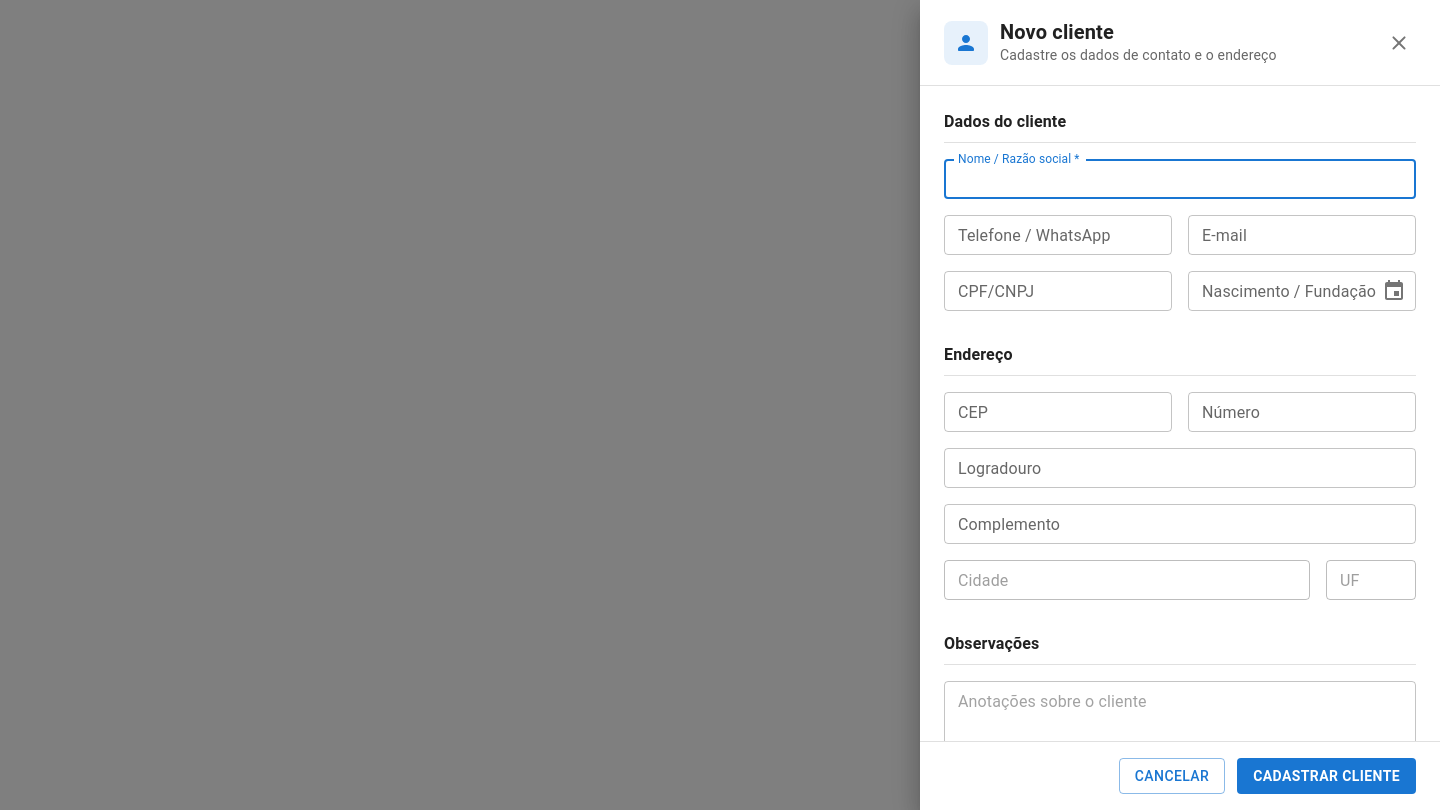
Test: ClientDialog (painel lateral) › e-mail e CPF inválidos bloqueiam o envio
This screenshot has width=1440, height=810.
Type "Ana" into the field labelled "Nome / Razão social *" at x=1180, y=179, box [944,159,1416,199]
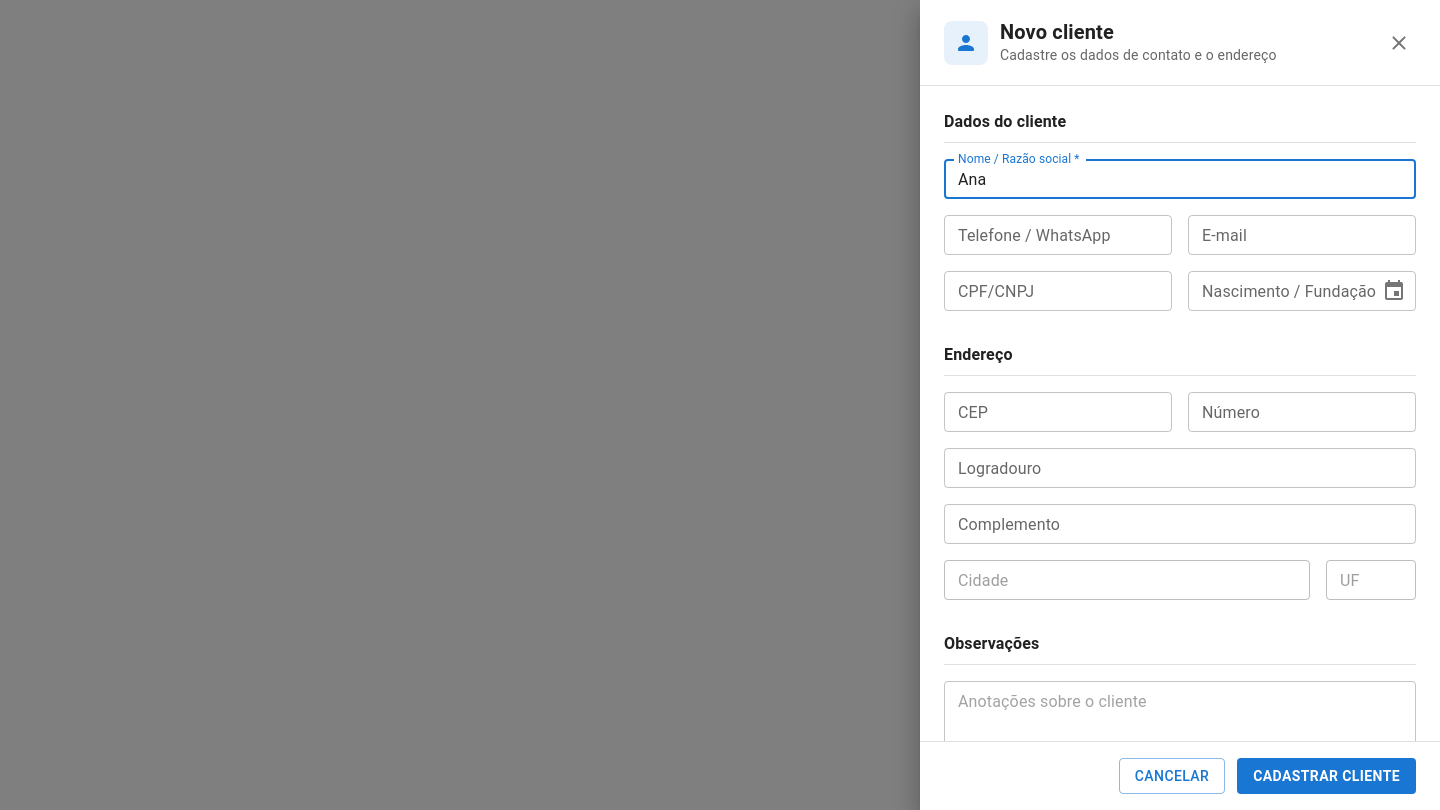
Type "ana@" into the field labelled "E-mail" at x=1302, y=235, box [1188,215,1416,255]
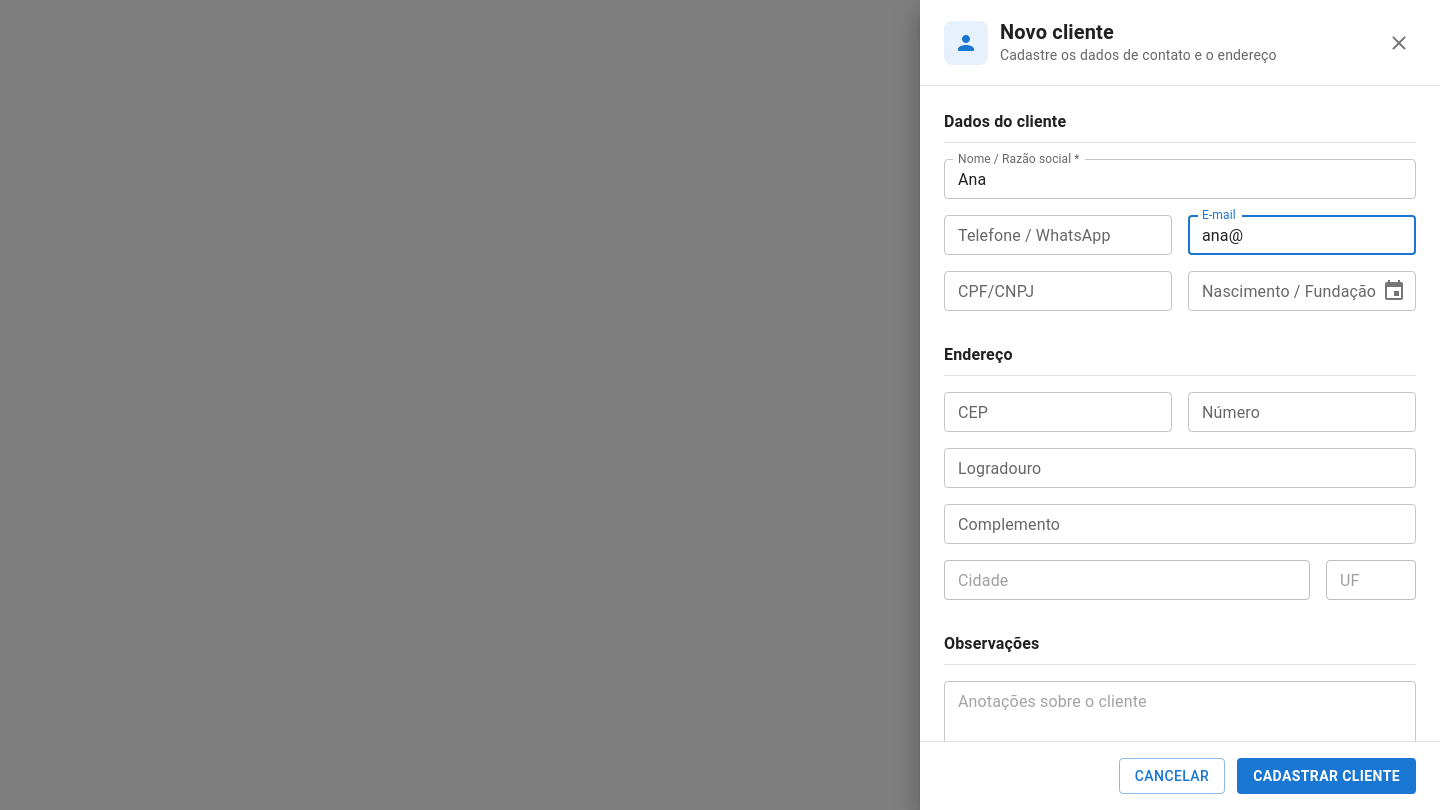
Type "111.111.111-11" into the field labelled "CPF/CNPJ" at x=1058, y=291, box [944,271,1172,311]
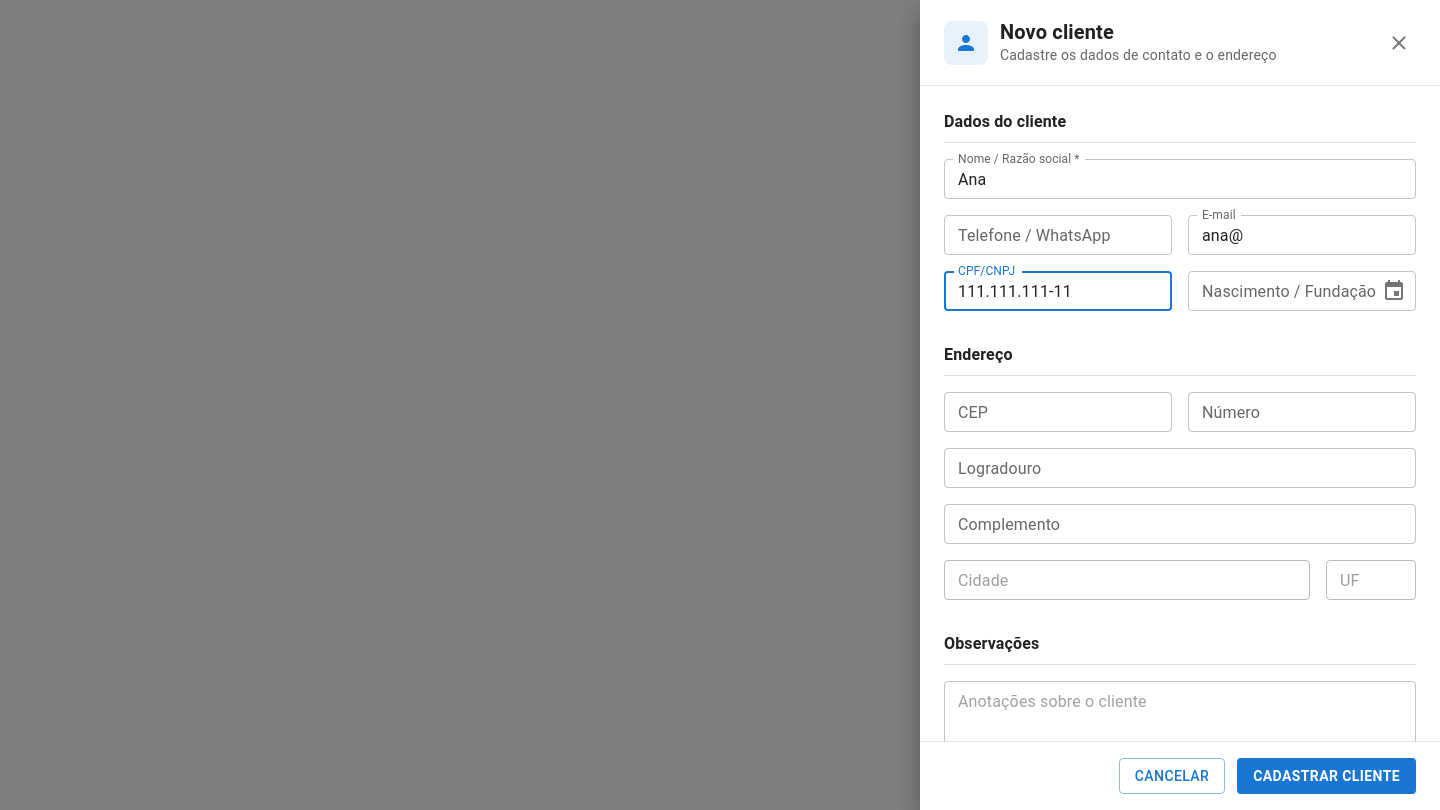
Click the button "Cadastrar cliente" at x=1327, y=776, box [1237,758,1416,794]
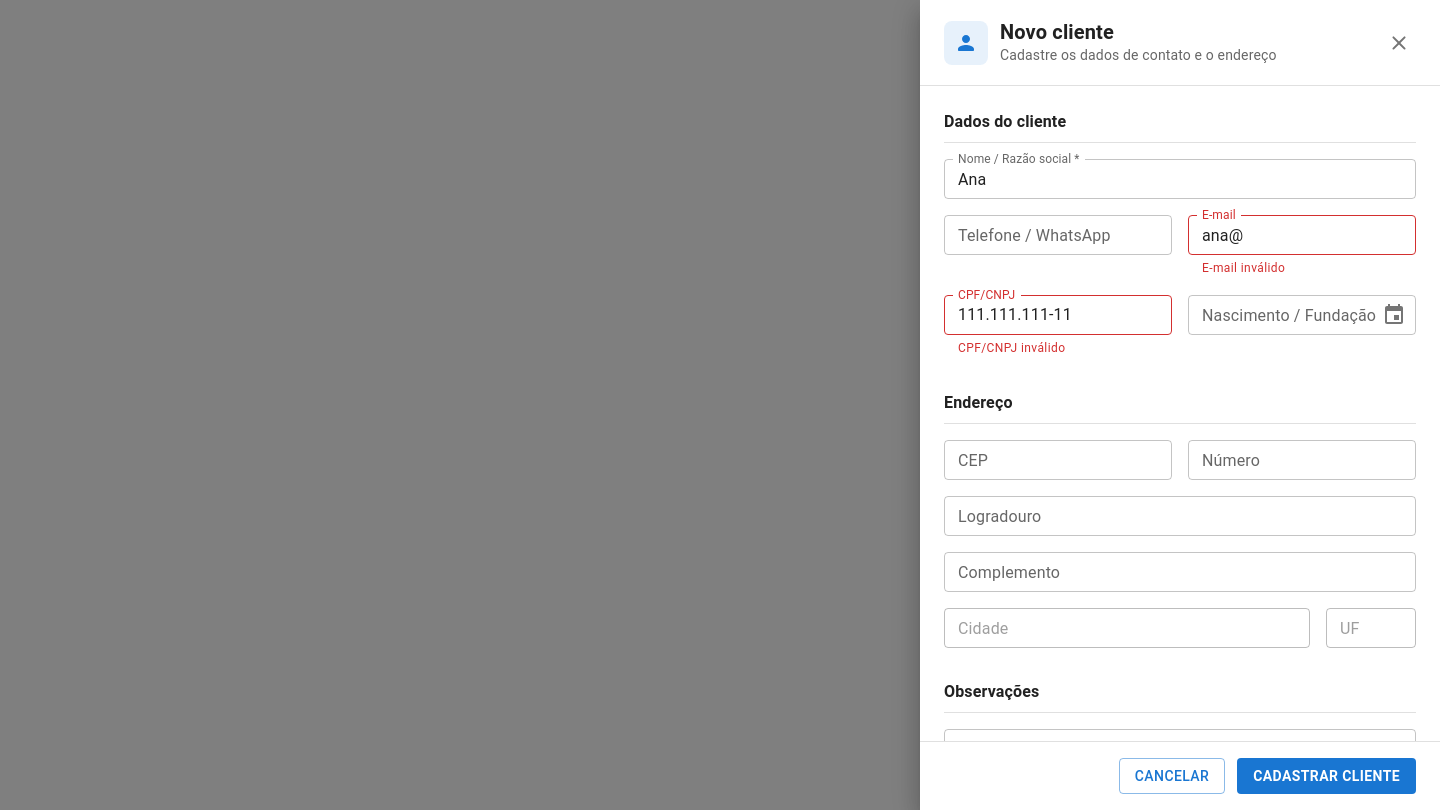
Now the text "E-mail inválido" is shown, box [1202,261,1285,275]
Now the text "CPF/CNPJ inválido" is shown, box [958,341,1065,355]
